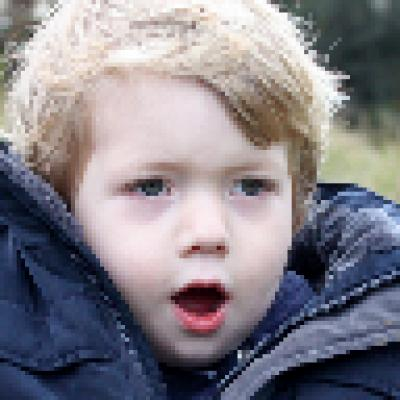surprise: (73, 58, 297, 354)
